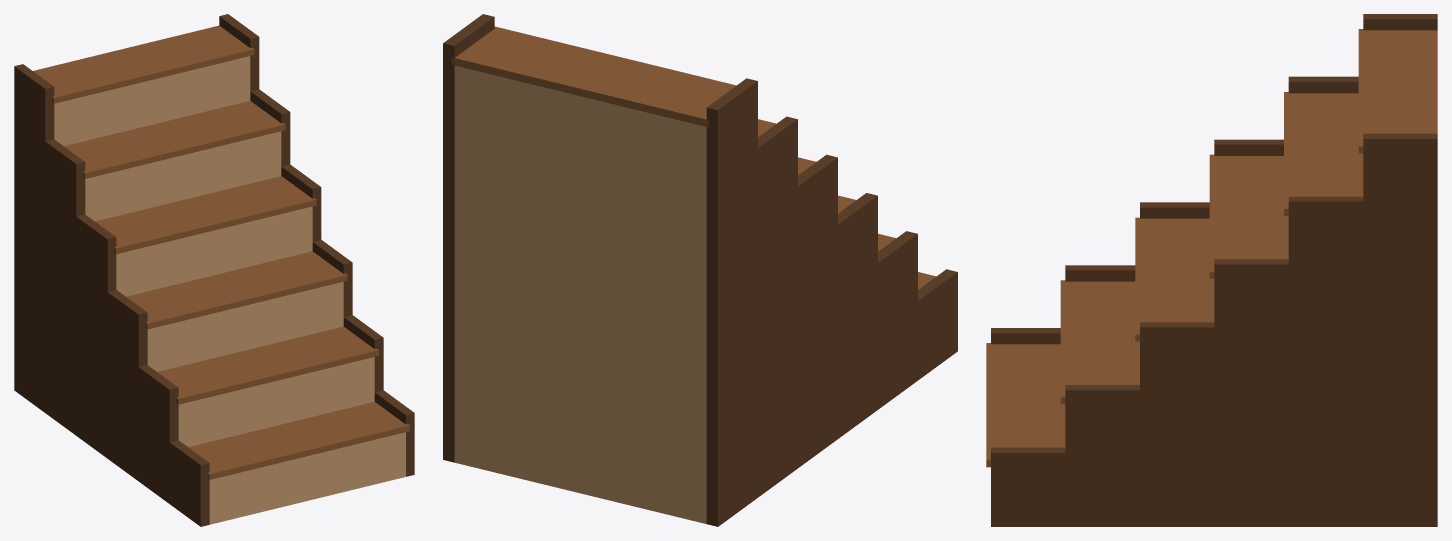
File: stairs.glb
3 renders of one model, left to right at view 1: azimuth 30°, elevation 25°; view 2: azimuth 150°, elevation 25°; view 3: azimuth 270°, elevation 25°, orthographic. The views are drawn at different scales.
Visible parts, largest first — view 1: stairs; view 2: stairs; view 3: stairs.
Boxes of the visible parts, x1,y1,x2,y2 form: stairs: [14, 14, 414, 526]; stairs: [443, 14, 957, 526]; stairs: [986, 14, 1437, 526].
Size of the model in its own units: 1.92 by 2.78 by 2.93.
